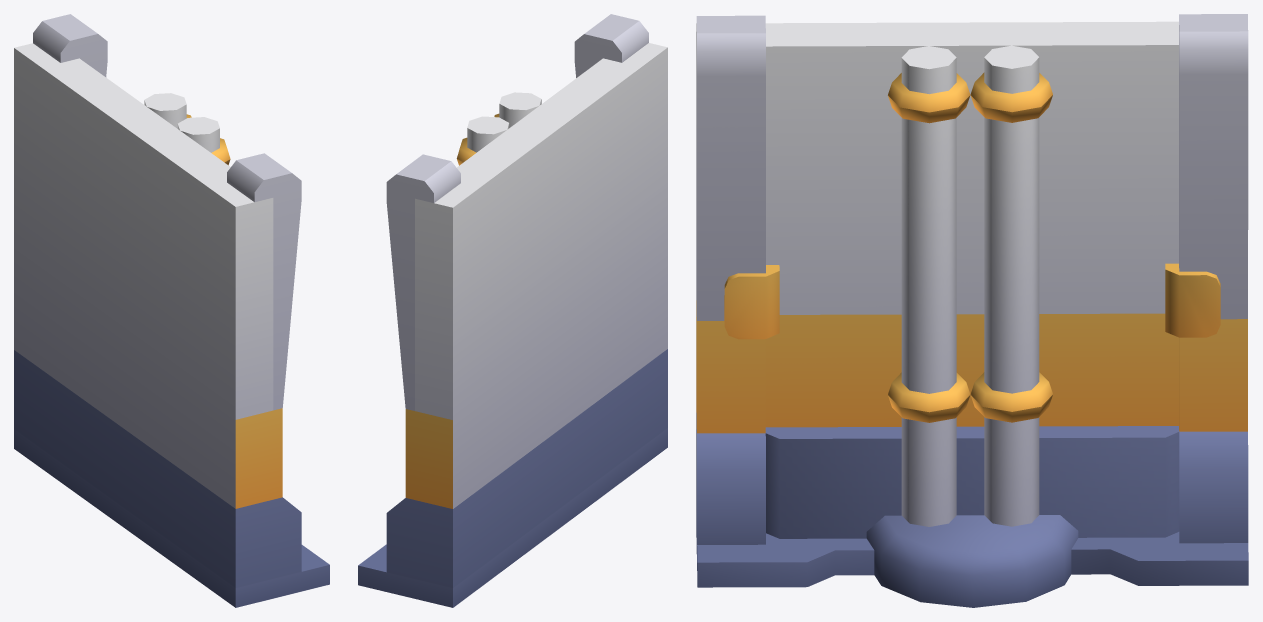
The model's file is template-wall-detail-a_lev4.glb.
3 renders of one model, left to right at view 1: azimuth 30°, elevation 25°; view 2: azimuth 150°, elevation 25°; view 3: azimuth 270°, elevation 25°, orthographic. The views are drawn at different scales.
Parts seen in each view (by area): view 1: template-wall-detail-a_lev4; view 2: template-wall-detail-a_lev4; view 3: template-wall-detail-a_lev4.
Part boxes in pixels (left/top/right/bottom): template-wall-detail-a_lev4: left=14, top=14, right=329, bottom=607; template-wall-detail-a_lev4: left=358, top=14, right=667, bottom=607; template-wall-detail-a_lev4: left=696, top=14, right=1248, bottom=607.
Size of the model in its own units: 4.16 by 12.75 by 12.02.
1 material, 1 textured.
